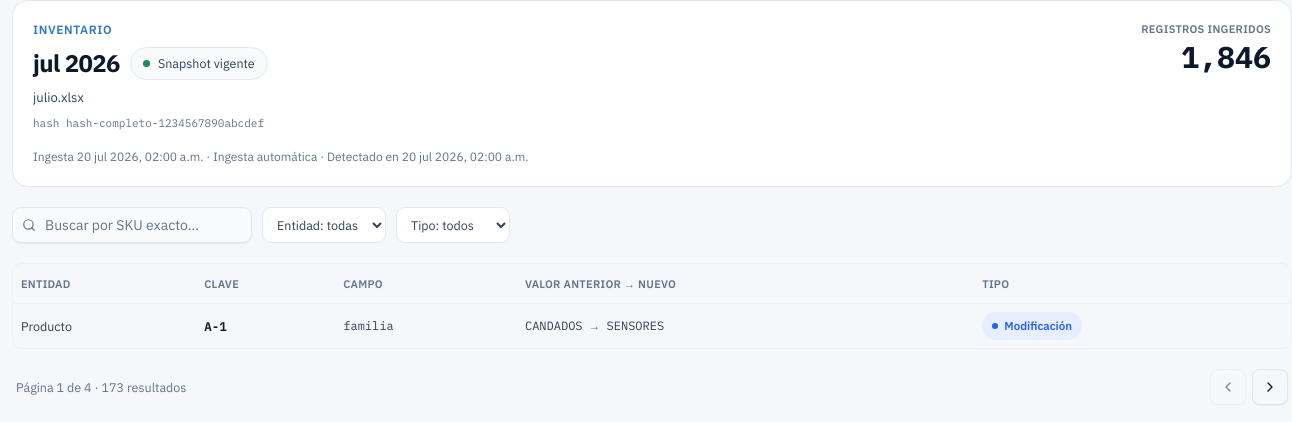
Test case: CambiosView › Paginacion muestra la página EN VIVO (estado local), no la `data.page` stale, mientras el cambio de página está en vuelo
The width and height of the screenshot is (1292, 422).
Expected: the text "Página 1 de 4 · 173 resultados" is shown, [16,378,186,397]
Click the button named "Página siguiente" at coordinates (1270, 387), box [1252,369,1288,405]
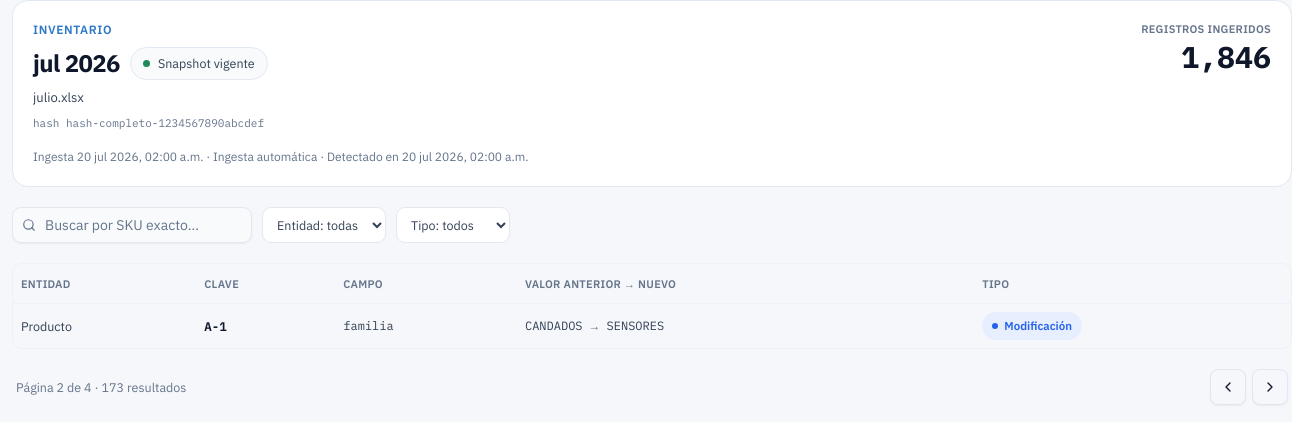
Expected: the text "Página 2 de 4 · 173 resultados" is shown, [16,378,186,397]
Expected: the text "Página 1 de 4" is gone
